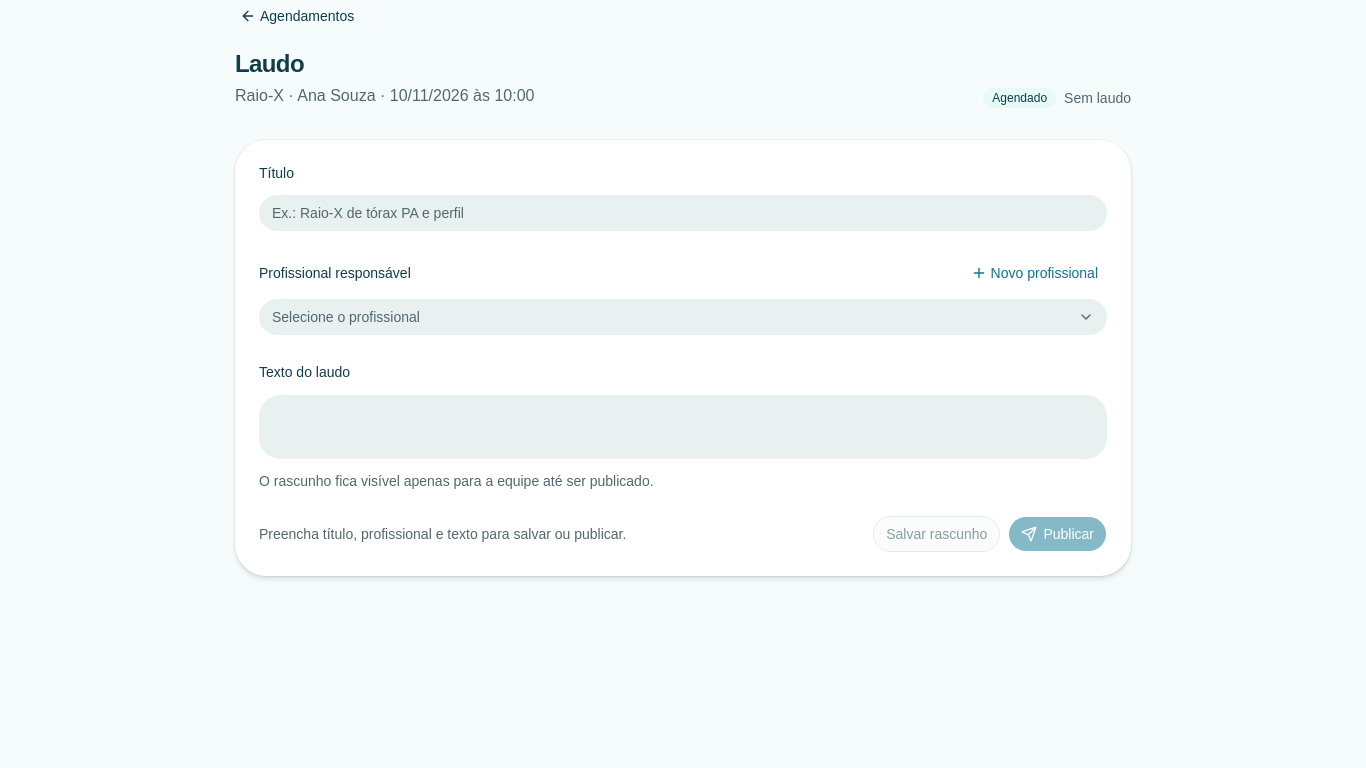
it: ReportPage › registers a professional from inside the report form and selects it
The image size is (1366, 768).
Step 1. Click the button "Novo profissional" → (1034, 273), box [962,259,1107,287]
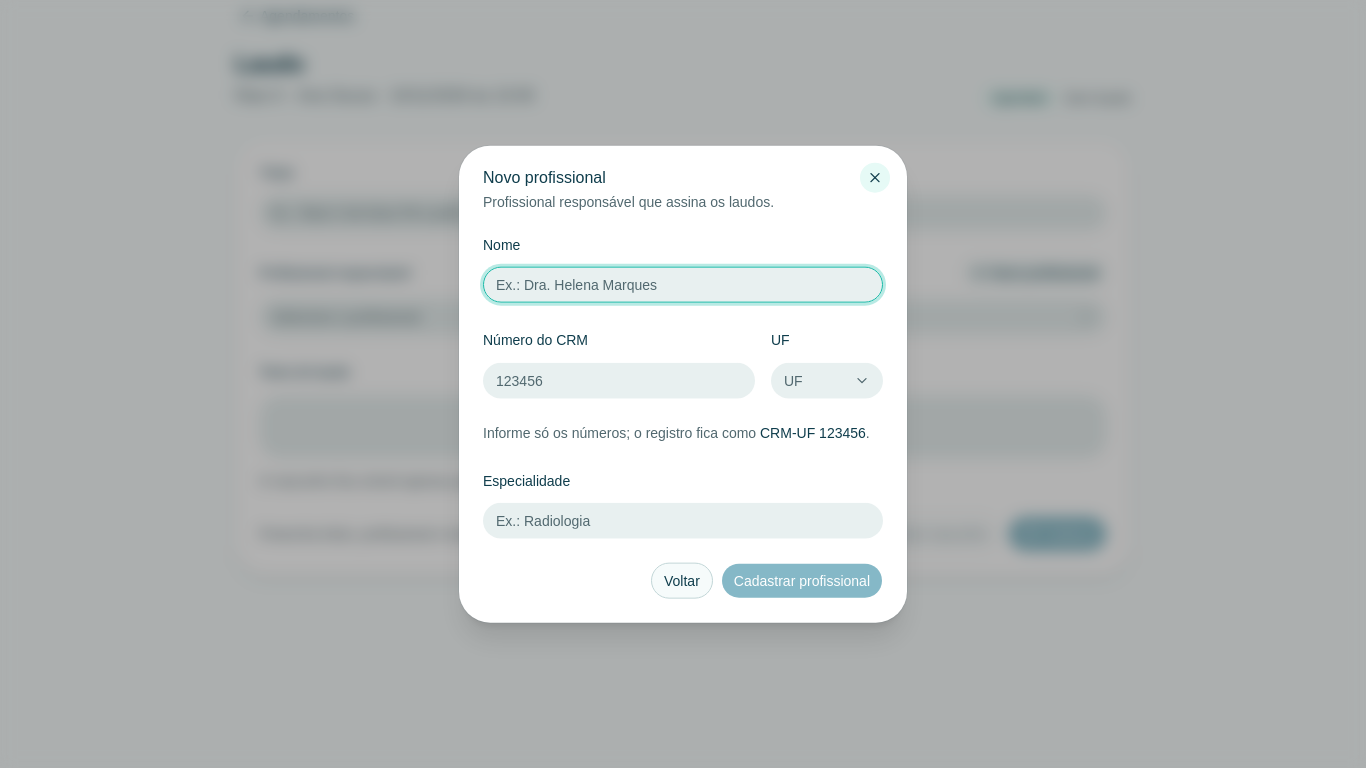
Step 2. Type "Dr. Paulo Reis" into the field labelled "Nome" → (683, 285), box [483,267,883,303]
Step 3. Type "CRM 654.321" into the field labelled "Número do CRM" → (619, 380), box [483,362,755,398]
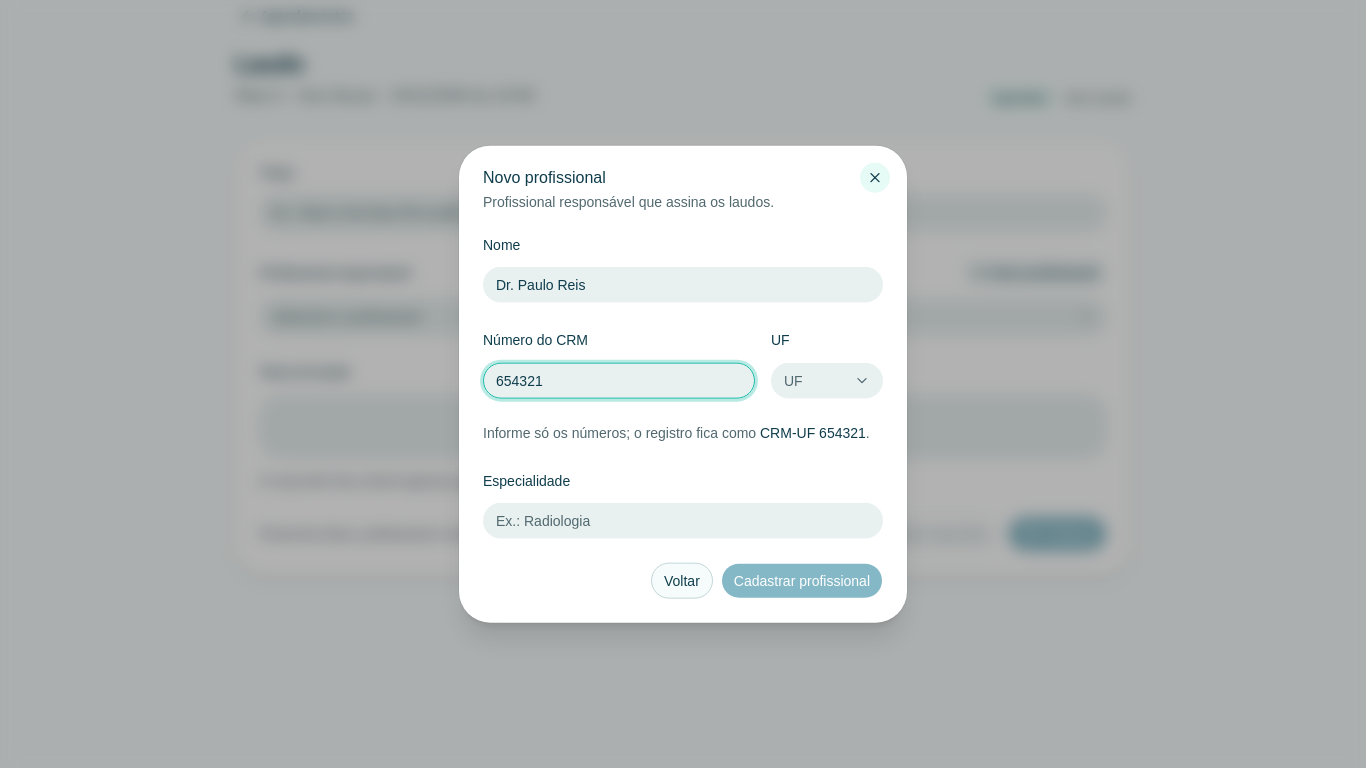
Step 4. Click the dropdown labelled "UF" → (827, 380), box [771,362,883,398]
(page scrolled)
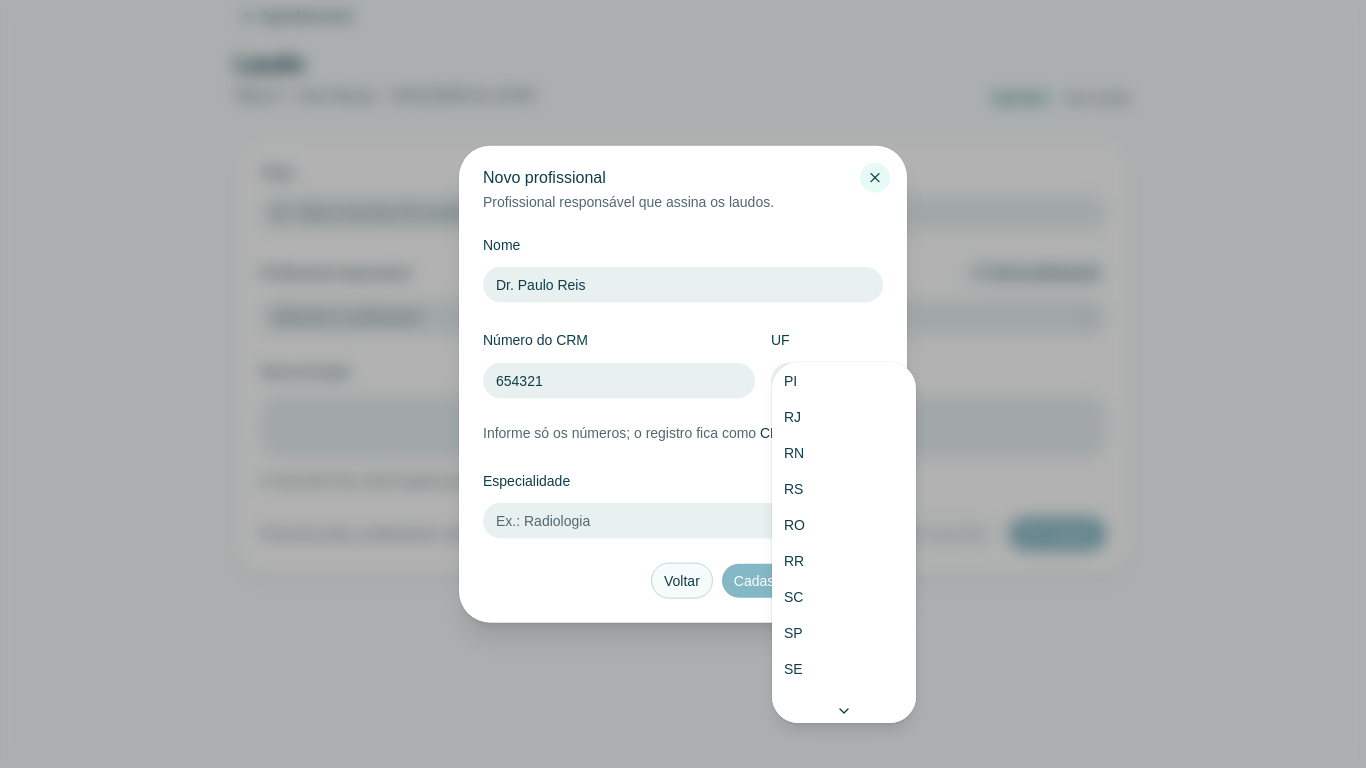
Step 5. Click the option "SP" → (793, 633), box [784,625,803,641]
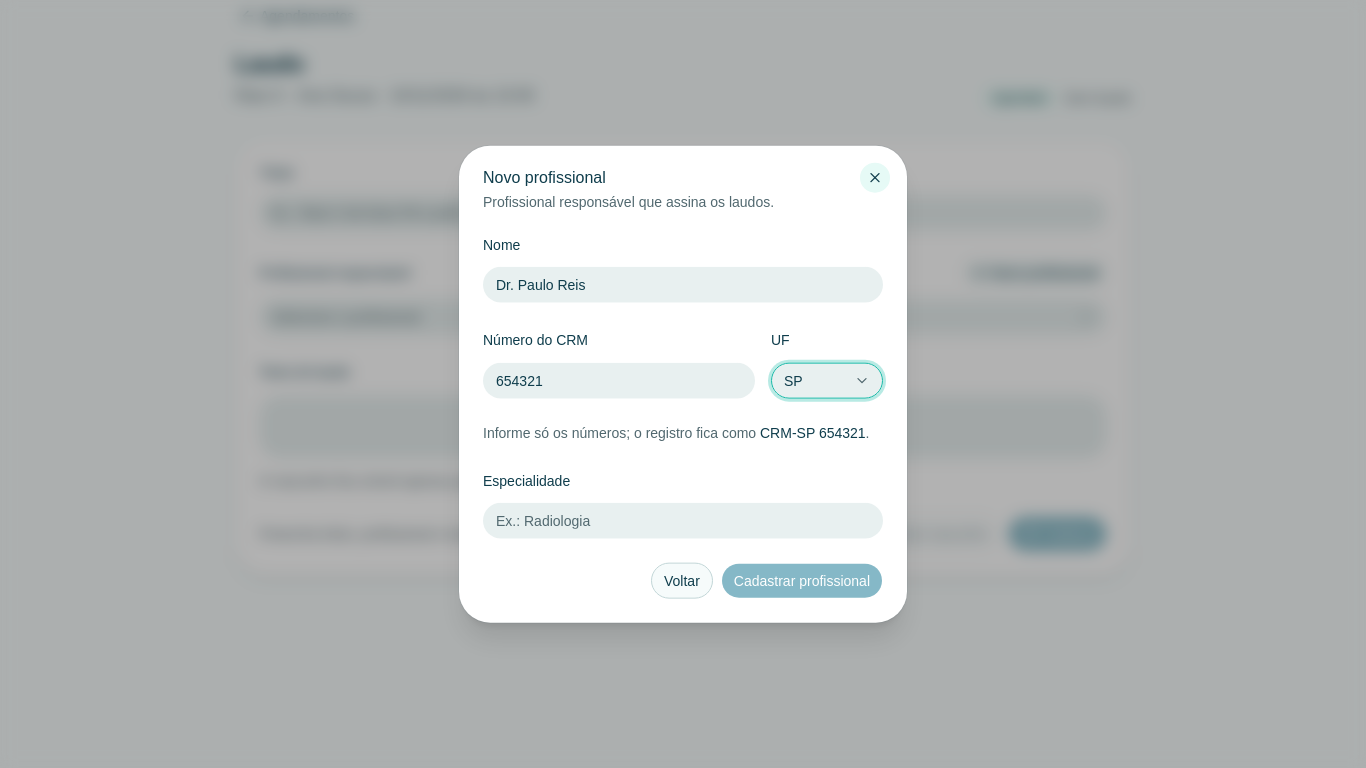
Step 6. Type "Ultrassonografia" into the field labelled "Especialidade" → (683, 520), box [483,502,883,538]
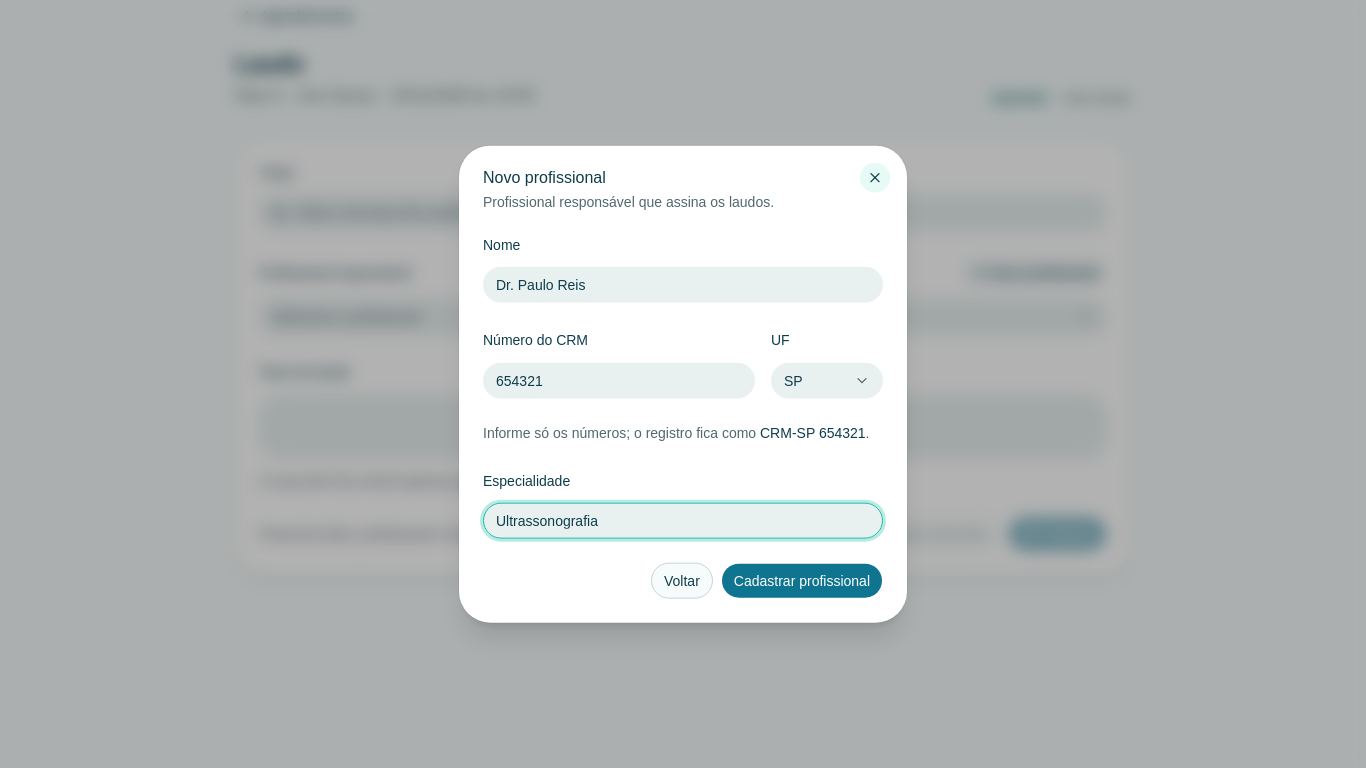
Step 7. Click the button "Cadastrar profissional" → (802, 580), box [721,562,883,598]
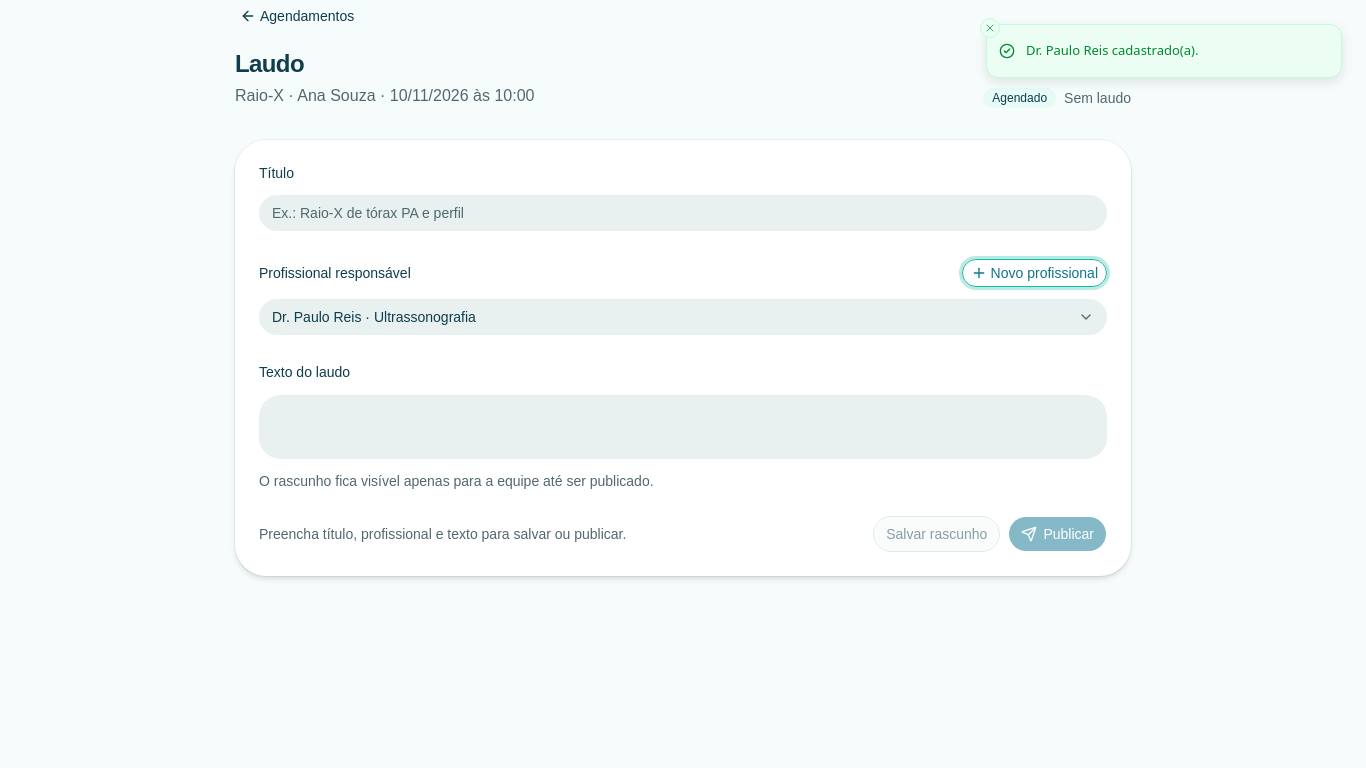
Check: the dropdown named "Profissional responsável" shows "Dr. Paulo Reis", box [259,299,1107,335]
